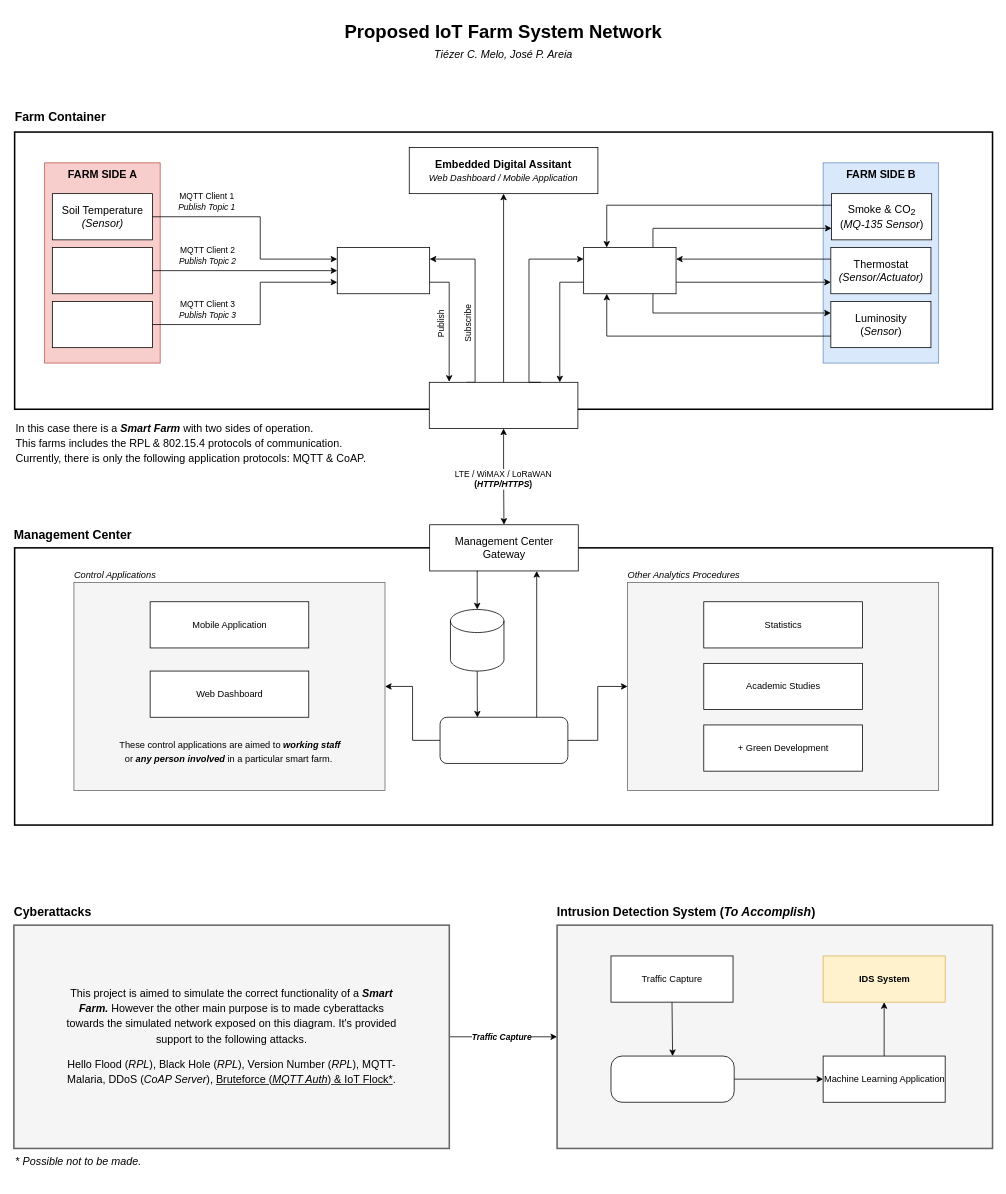
This 1006x1194 diagram has some shape labels left out. Each missing label, with the centre of its shape:
"Analytics" belongs at (x=503, y=739).
"CoAP Server" belongs at (x=629, y=270).
"DB" belongs at (x=477, y=640).
"Farm Gateway Built-in Manager & Agent" belongs at (x=503, y=405).
"Flow Generation" belongs at (x=672, y=1078).
"MQTT Broker" belongs at (x=383, y=270).
"Soil Moisture (Sensor)" belongs at (x=102, y=270).
"Soil PH (Sensor)" belongs at (x=102, y=324).
